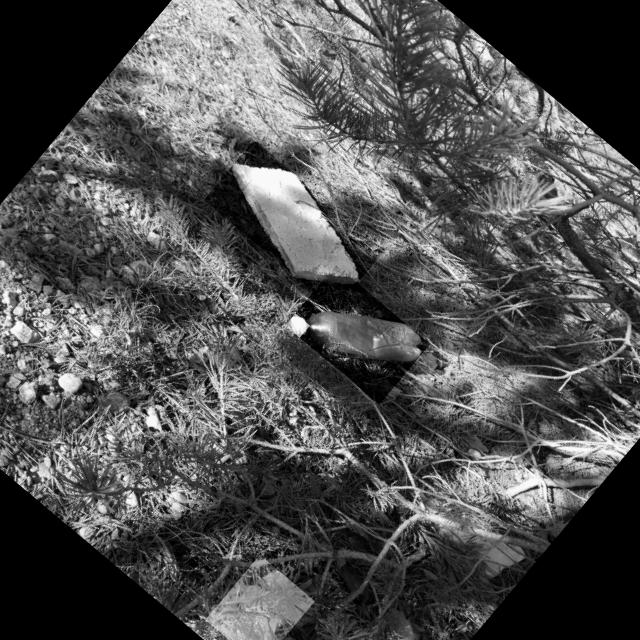Bottle cap: (289, 317, 303, 336)
Clear plastic bottle: (290, 311, 421, 362)
Plastic film: (227, 571, 279, 640)
Styrofoam piece: (232, 163, 359, 285), (445, 447, 454, 458)
